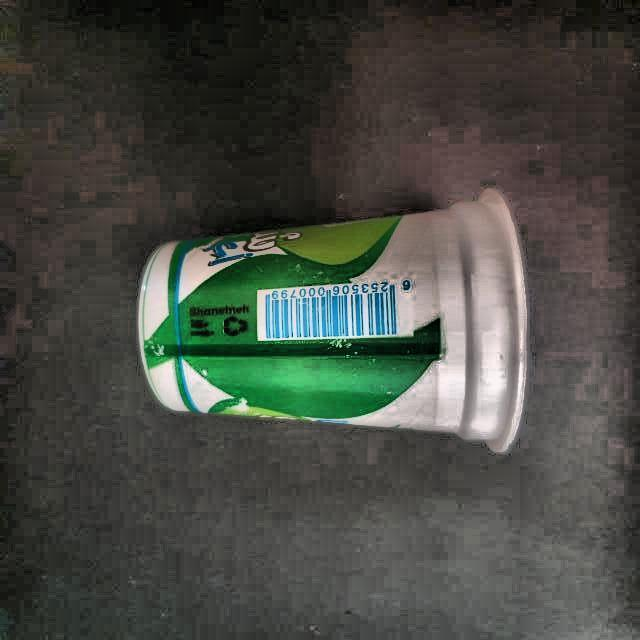plastic: (139, 191, 526, 451)
